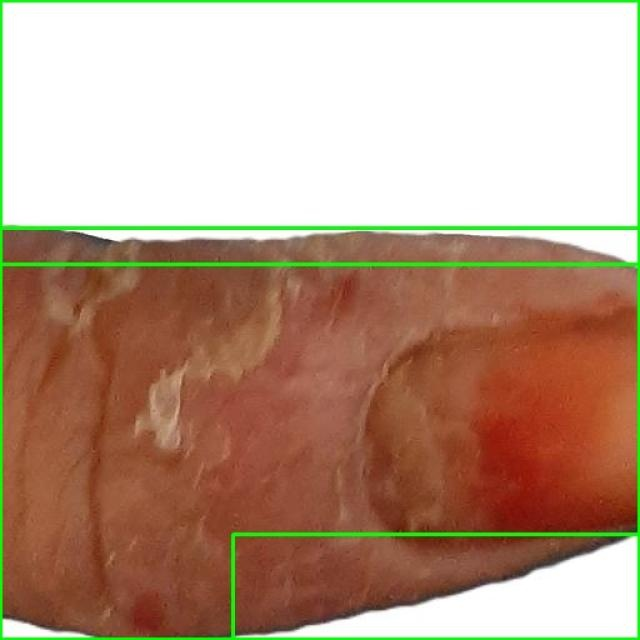Contact Dermatitis: (0, 228, 639, 639), (0, 0, 639, 264), (232, 534, 639, 639)
